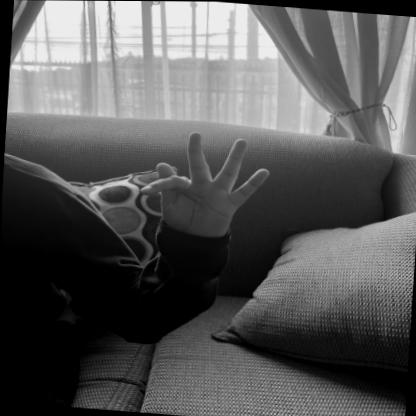F: (131, 122, 271, 248)
